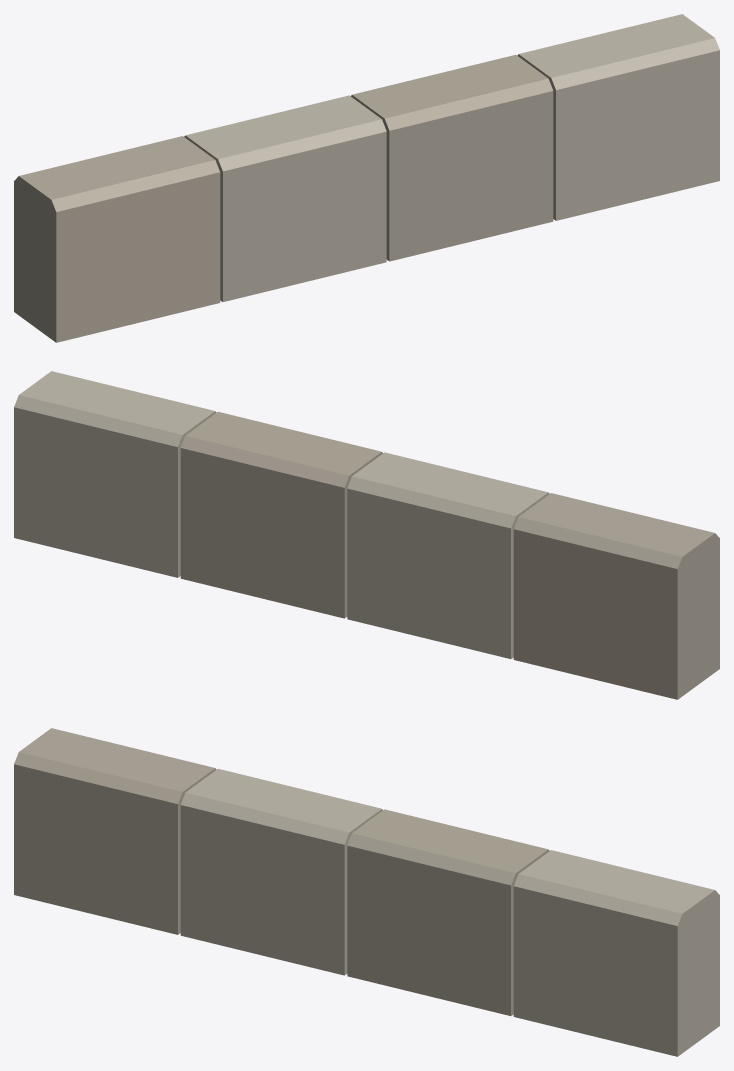
File: kerb.glb
3 views of the same model, one above another, from view 1: azimuth 30°, elevation 25°; view 2: azimuth 150°, elevation 25°; view 3: azimuth 330°, elevation 25° (orthographic).
Bounding box in the file's own units: 3.98 × 0.8 × 0.44.
